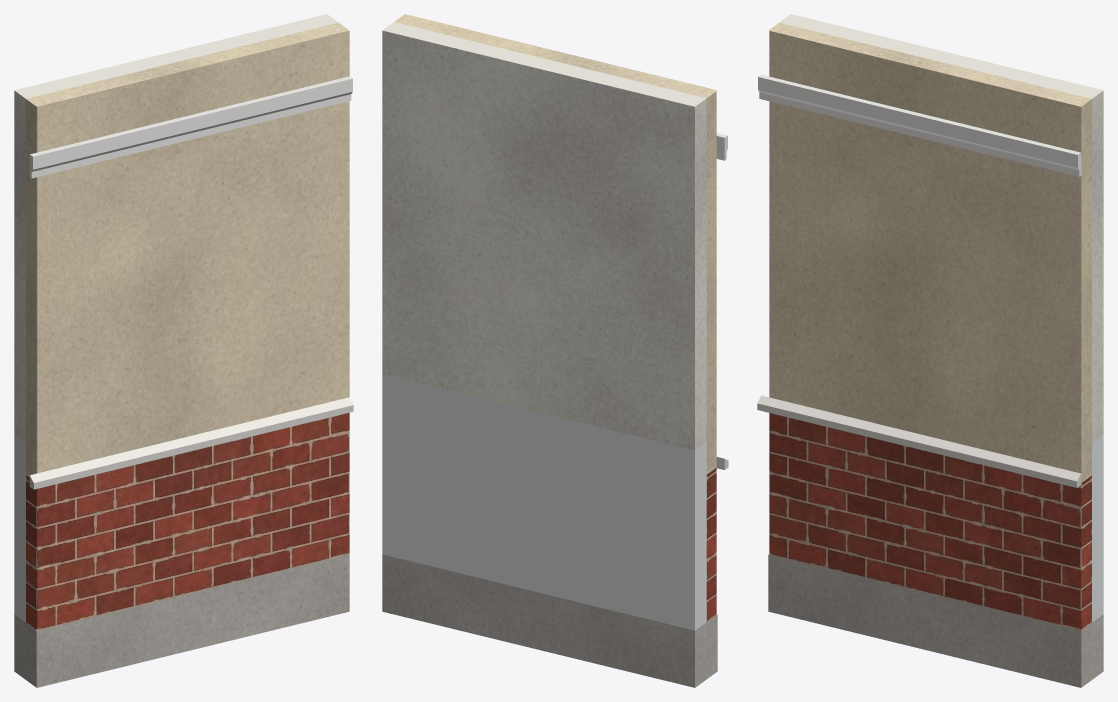
File: c_plain_ea.glb
3 renders of one model, left to right at view 1: azimuth 30°, elevation 25°; view 2: azimuth 150°, elevation 25°; view 3: azimuth 330°, elevation 25°, orthographic.
Visible parts, largest first — view 1: c_plain_ea_render, c_plain_ea_brick, c_plain_ea_concrete, c_plain_ea_trim, c_plain_ea_plaster, c_plain_ea_coping, c_plain_ea_tile; view 2: c_plain_ea_plaster, c_plain_ea_tile, c_plain_ea_concrete, c_plain_ea_render, c_plain_ea_brick; view 3: c_plain_ea_render, c_plain_ea_brick, c_plain_ea_concrete, c_plain_ea_trim, c_plain_ea_plaster, c_plain_ea_coping, c_plain_ea_tile.
Boxes of the visible parts, x1,y1,x2,y2 form: c_plain_ea_render: (26, 22, 349, 477); c_plain_ea_brick: (26, 412, 349, 630); c_plain_ea_concrete: (14, 554, 349, 687); c_plain_ea_trim: (29, 76, 352, 178); c_plain_ea_plaster: (14, 14, 338, 442); c_plain_ea_coping: (29, 397, 353, 489); c_plain_ea_tile: (14, 434, 25, 622); c_plain_ea_plaster: (382, 22, 706, 450); c_plain_ea_tile: (382, 374, 706, 630); c_plain_ea_concrete: (382, 554, 717, 687); c_plain_ea_render: (394, 14, 716, 474); c_plain_ea_brick: (706, 468, 716, 621); c_plain_ea_render: (769, 22, 1091, 482); c_plain_ea_brick: (769, 413, 1091, 630); c_plain_ea_concrete: (768, 554, 1103, 687); c_plain_ea_trim: (758, 74, 1081, 176); c_plain_ea_plaster: (779, 14, 1103, 442); c_plain_ea_coping: (757, 395, 1081, 487); c_plain_ea_tile: (1092, 434, 1103, 622).
Size of the model in its own units: 2.04 by 3.55 by 0.295.
Materials: 7 (4 with a texture image).
